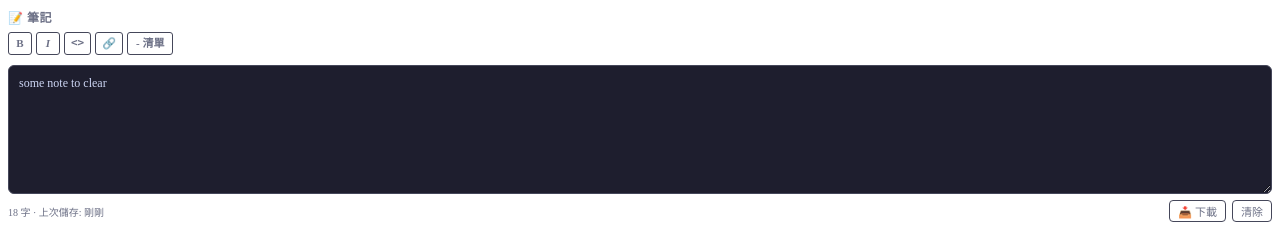
Test: AgentNotes › clearing (after confirm) empties the textarea AND removes localStorage entry
Expected: the text box holds "some note to clear", [8,64,1272,194]
Click the button with class "agent-notes-clear-btn".
click(1252, 211)  # box [1232,200,1272,222]
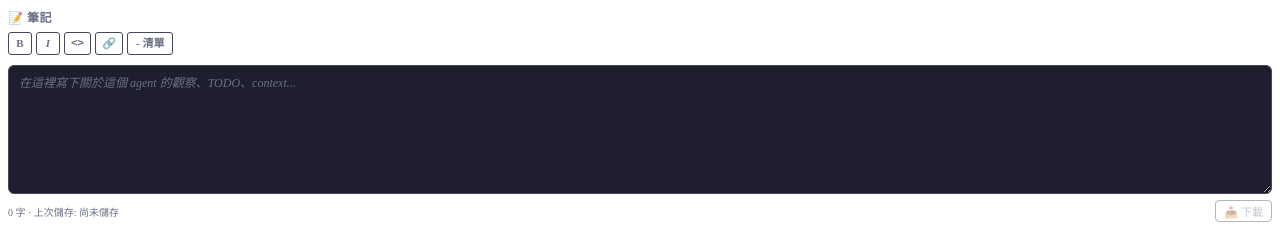
Result: the text box with placeholder "在這裡寫下關於這個 agent 的觀察、TODO、context..." is empty at [8,64,1272,194]
